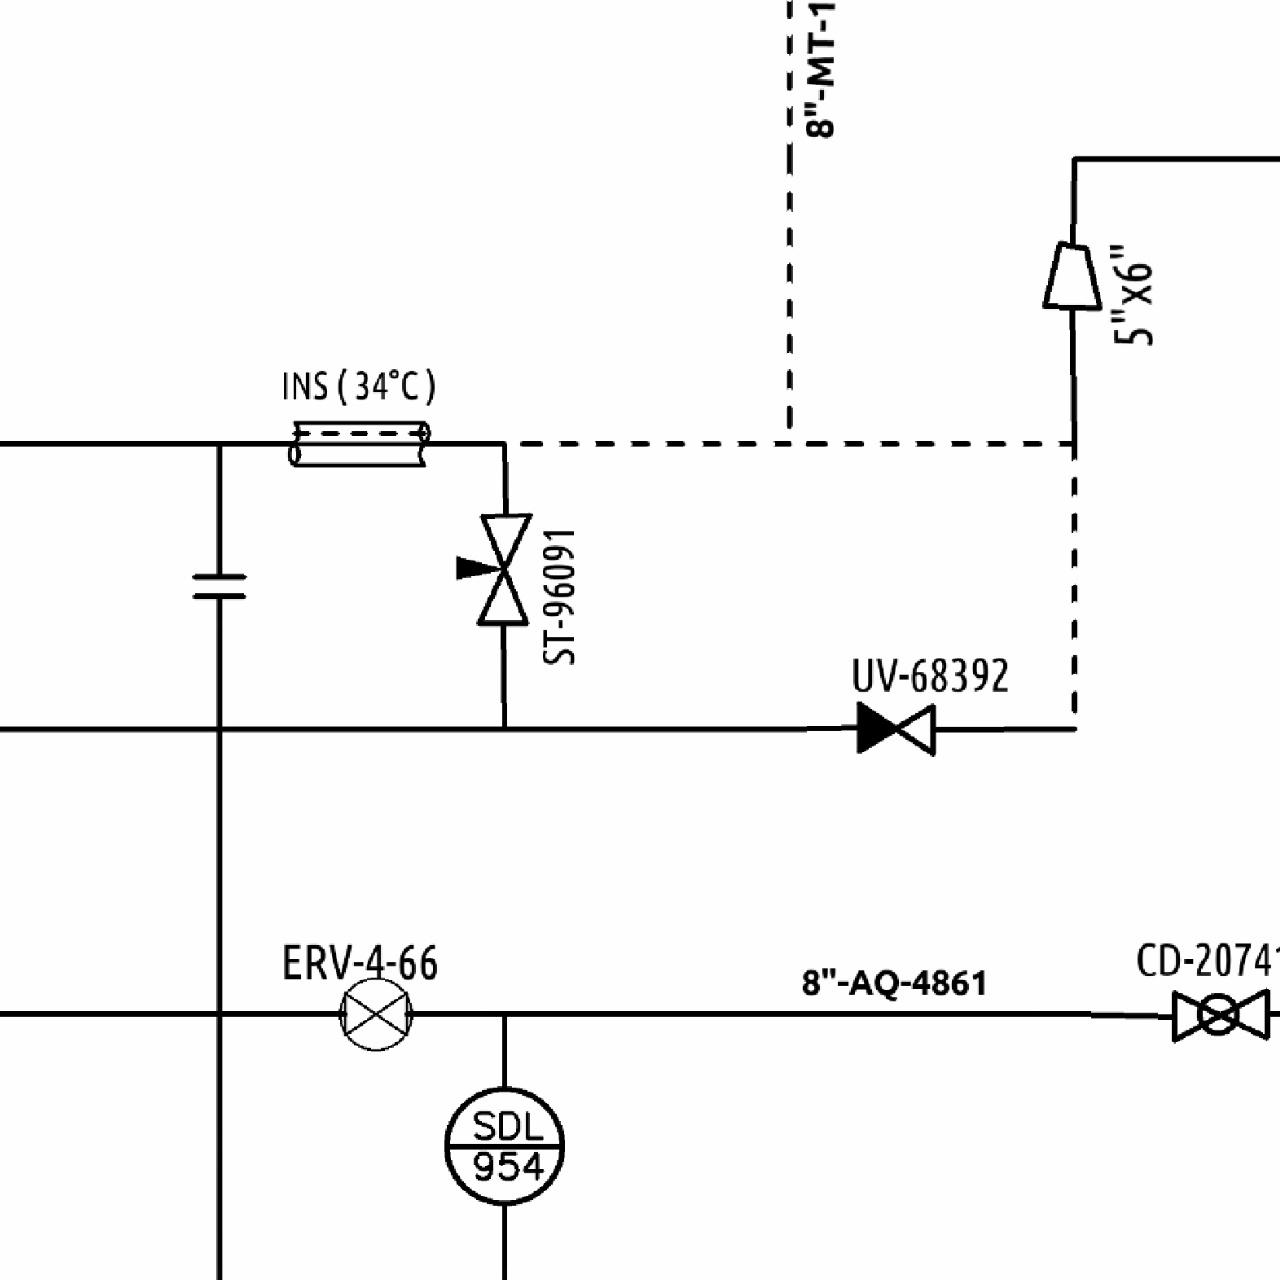Half closed valve: (851, 696, 938, 760)
